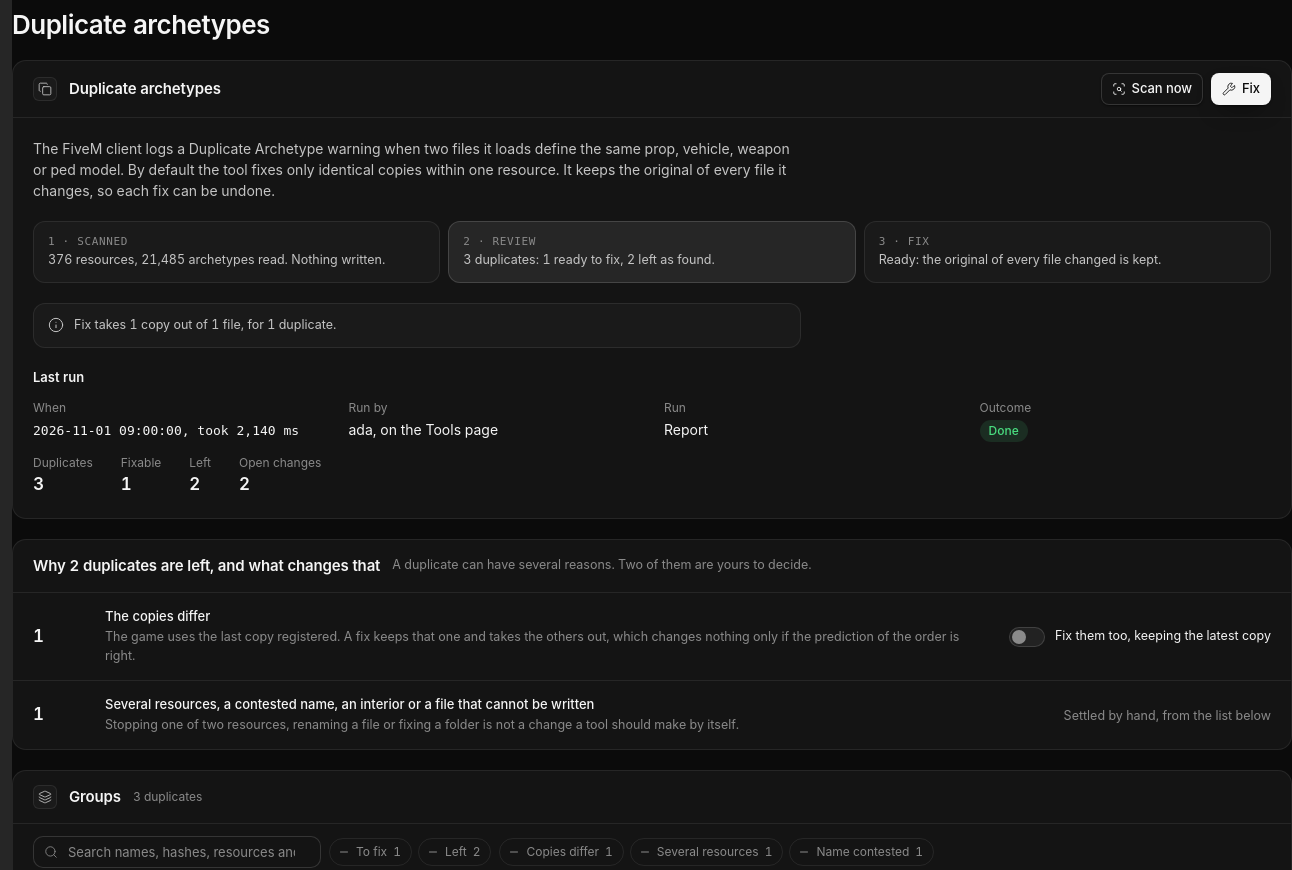
Test: ArchetypesPage › should narrow the groups to an action, a reason and a search
Check: the text "The FiveM client logs a Duplicate Archetype warning when two files it loads define the same prop, vehicle, weapon or ped" is shown, box [33, 140, 790, 199]
Click the button "Left 2" at (455, 852), box [418, 838, 491, 866]
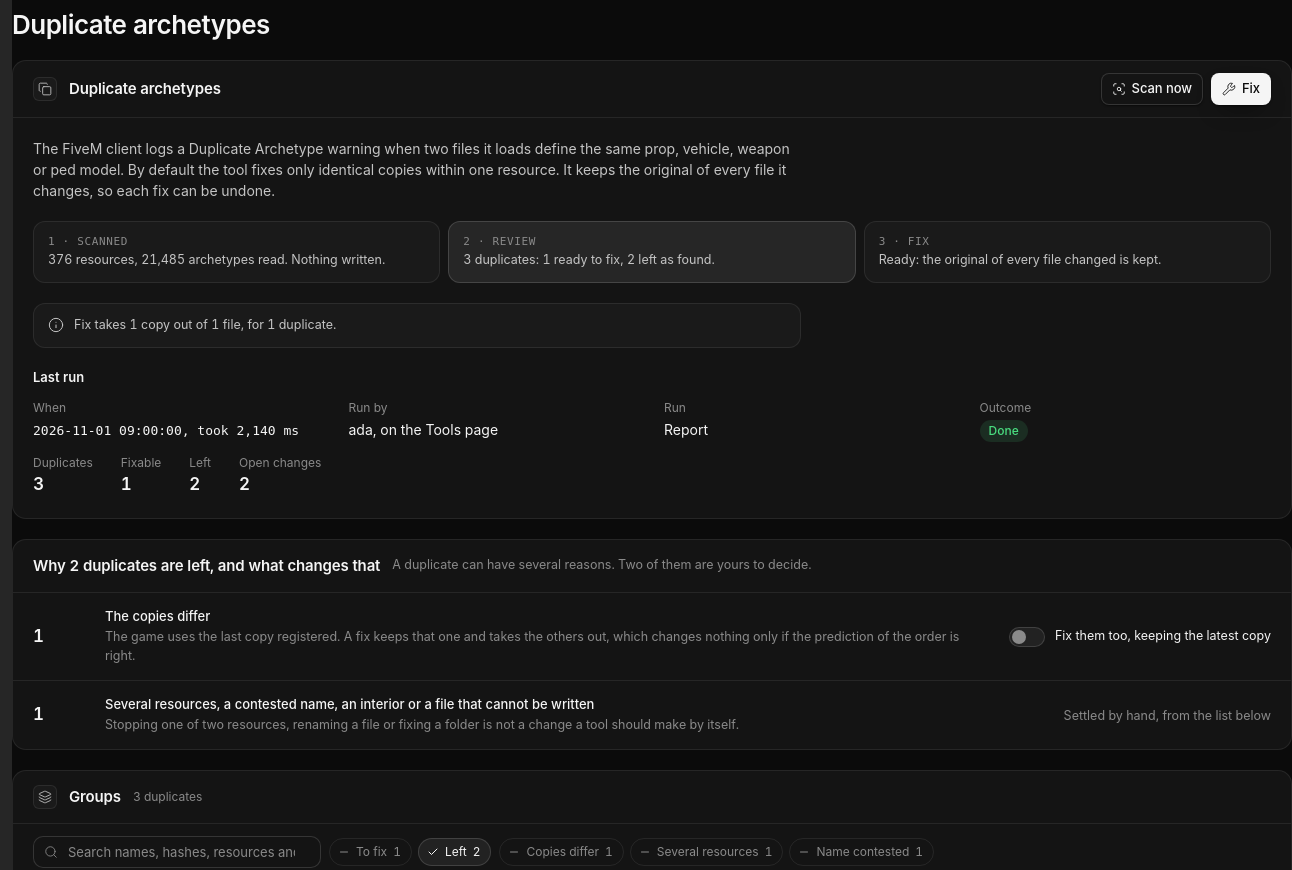
Click the button "Copies differ 1" at (562, 852), box [499, 838, 624, 866]
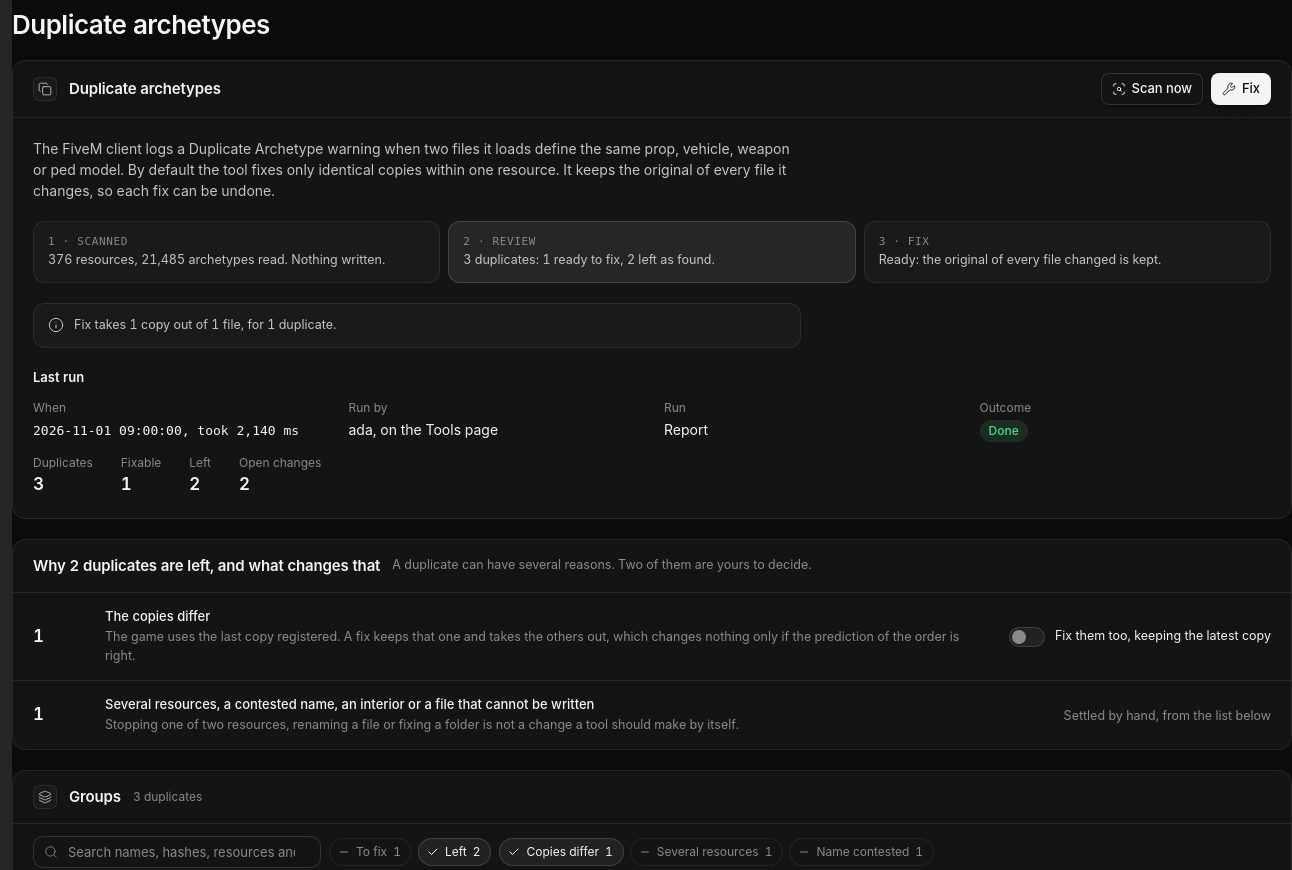
Click the button "Copies differ 1" at (562, 852), box [499, 838, 624, 866]
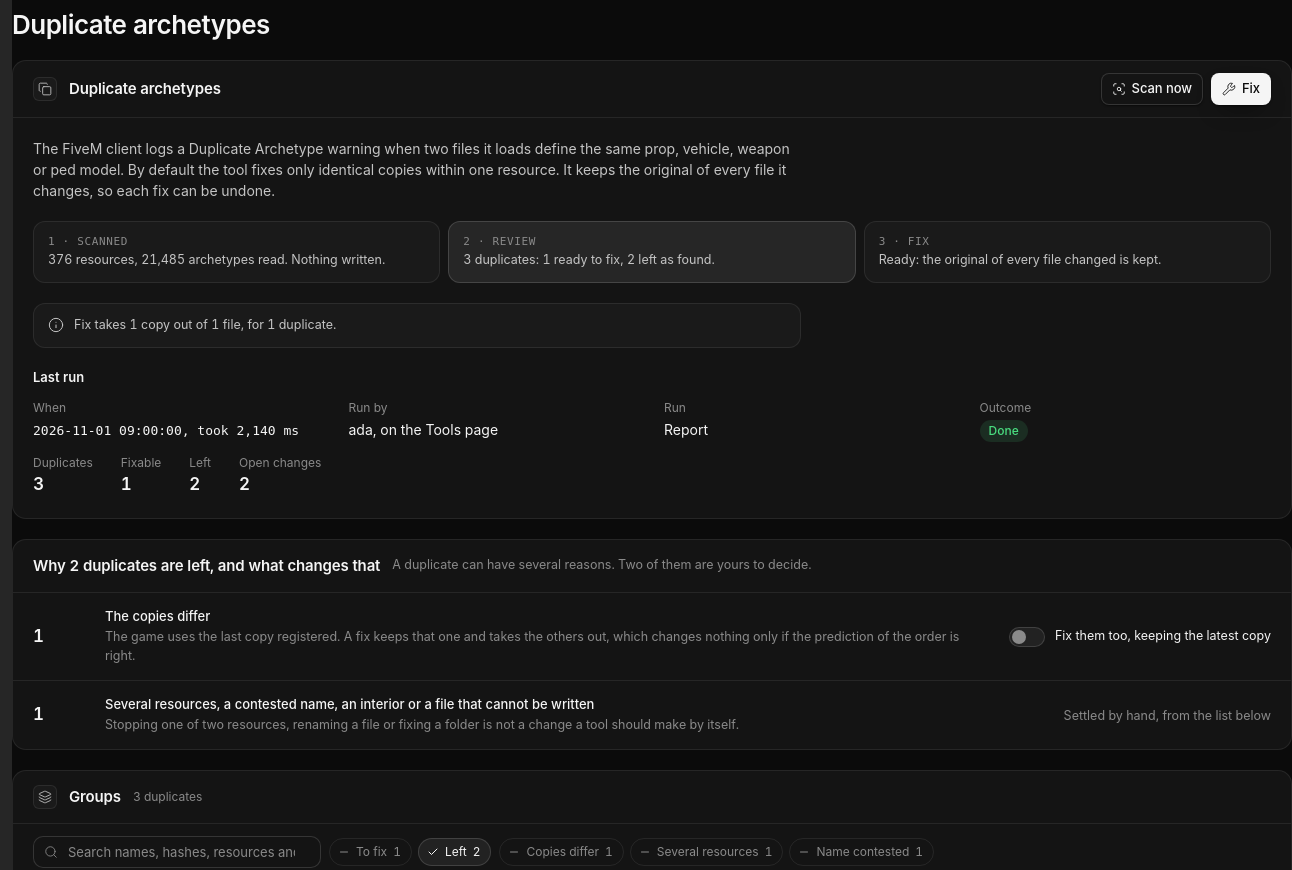
Type "f032" into the search field labelled "Search names, hashes, resources and files" at (177, 852), box [33, 836, 321, 868]
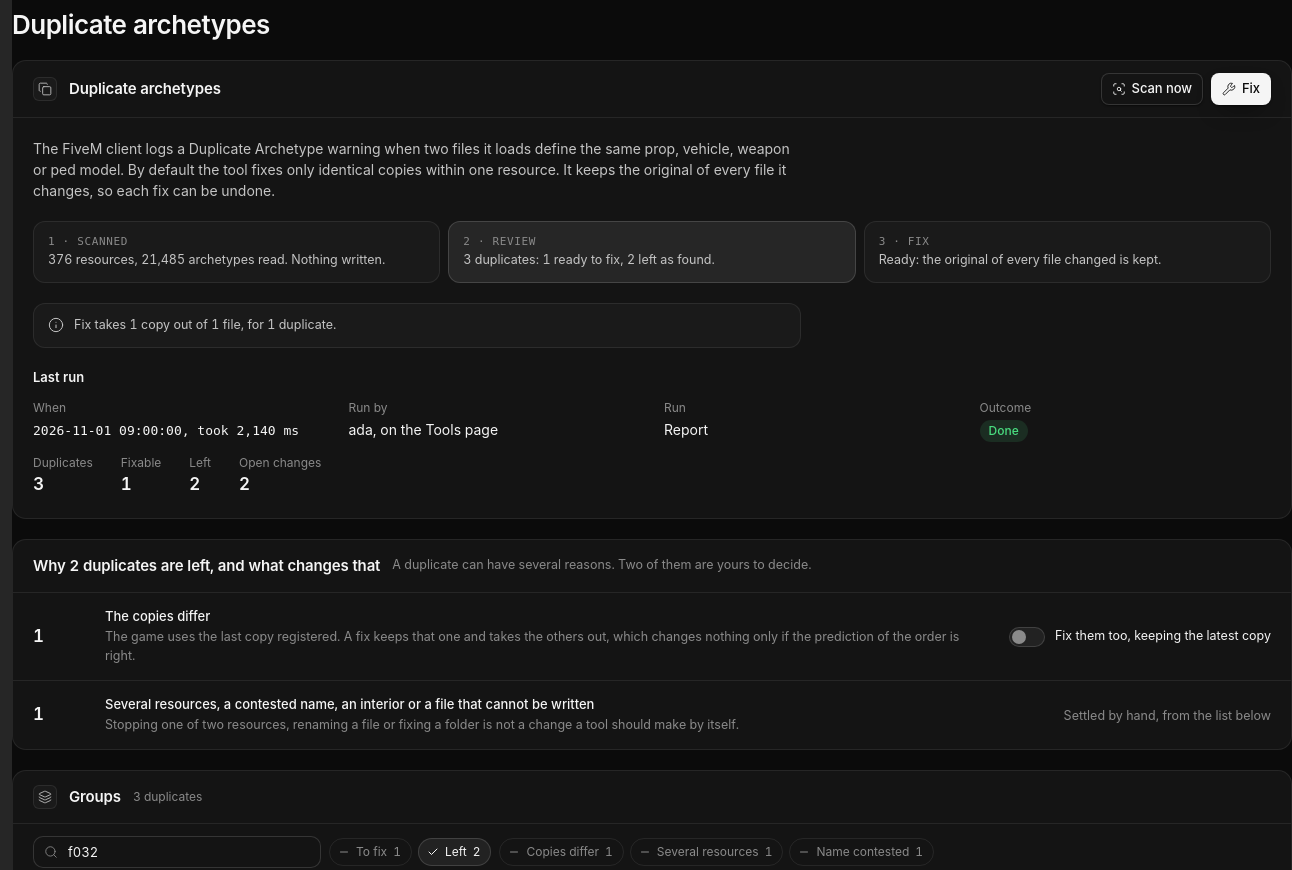
Replace the text in the search field named "Search names, hashes, resources and files" with "nothing like it" at (177, 852), box [33, 836, 321, 868]
(page scrolled)
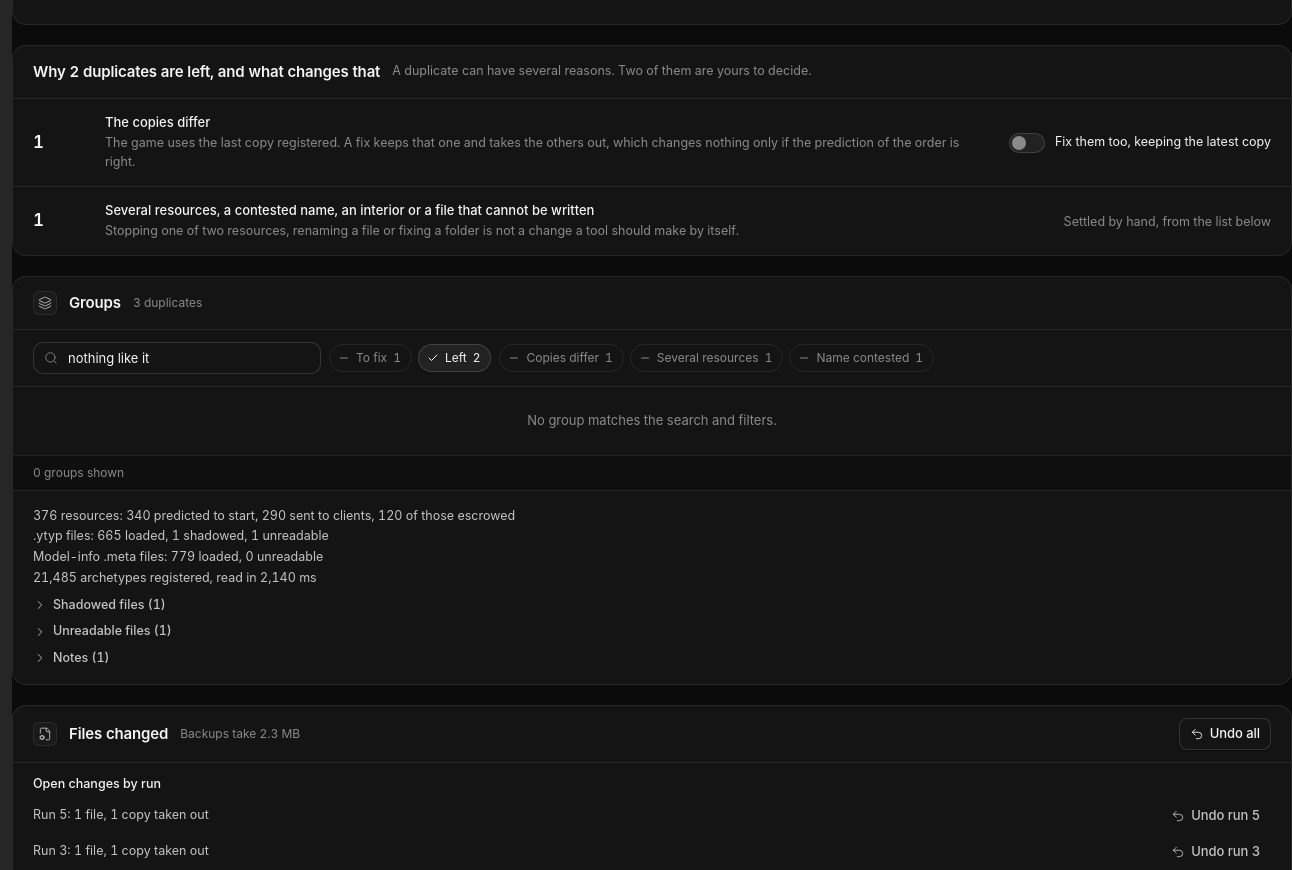
Check: the text "No group matches the search and filters." is shown, box [527, 412, 777, 428]
